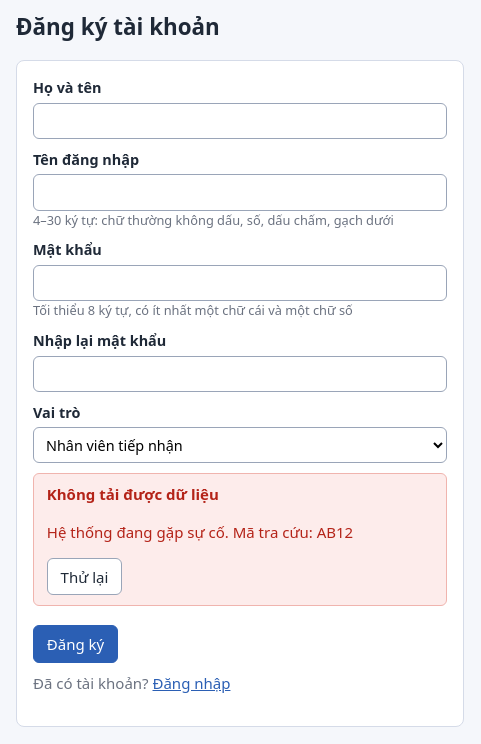
Test: Trang đăng ký › lỗi tải danh sách trung tâm (503): hiện lỗi dễ hiểu và nút Thử lại (ba trạng thái)
This screenshot has width=481, height=744.
Expected: the text "Hệ thống đang gặp sự cố. Mã tra cứu: AB12" is shown, left=47, top=522, right=353, bottom=542
Click the button "Thử lại" at (84, 577), box left=47, top=558, right=122, bottom=596
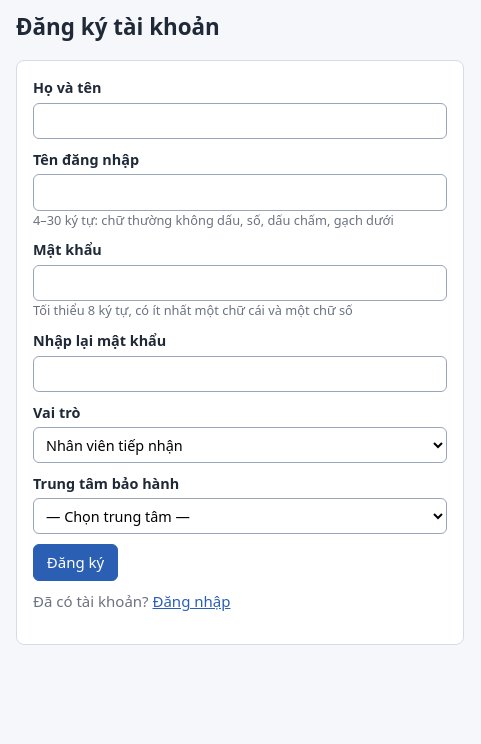
Now the dropdown labelled "Trung tâm bảo hành" is shown, box left=33, top=498, right=447, bottom=534
